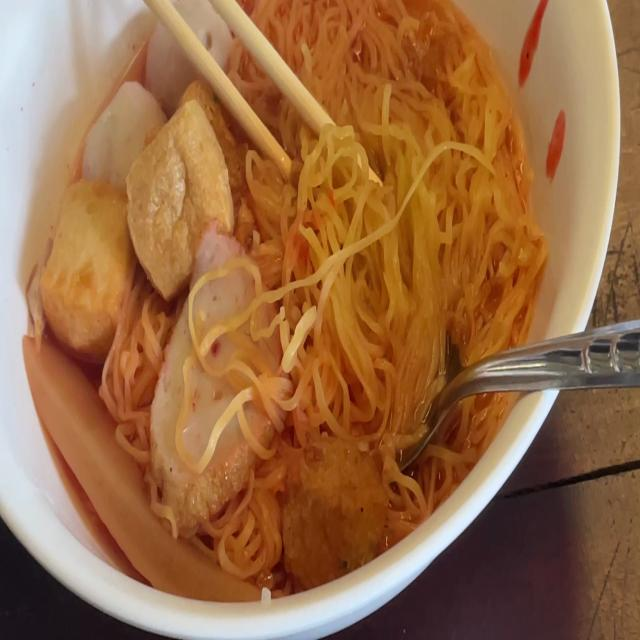crunchy_squid: (19, 345, 269, 606)
egg_noodles: (246, 2, 531, 430)
fish_ball: (137, 0, 236, 112), (81, 76, 166, 202)
fried_fish_balls: (147, 232, 273, 509)
fried_tofu: (141, 100, 239, 259)
noodle: (32, 0, 540, 584)
tofu: (50, 189, 131, 333)
